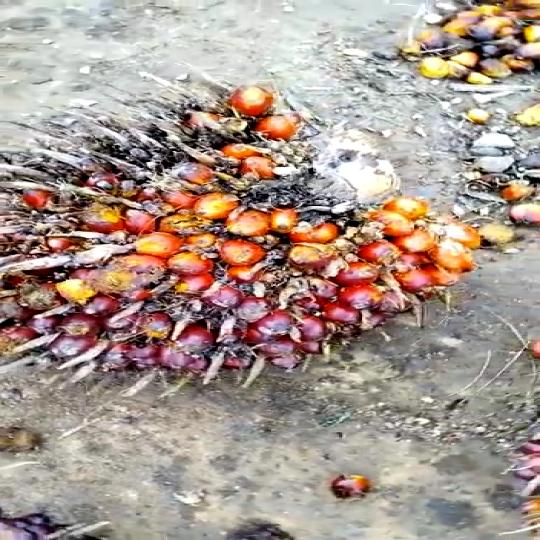masak: (0, 76, 489, 409)
